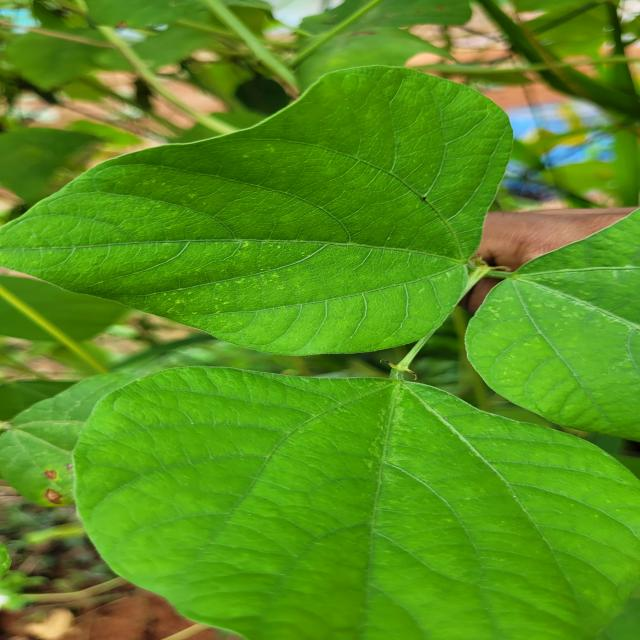Dolicos bean_healthy: (71, 367, 640, 640), (0, 62, 506, 359)
